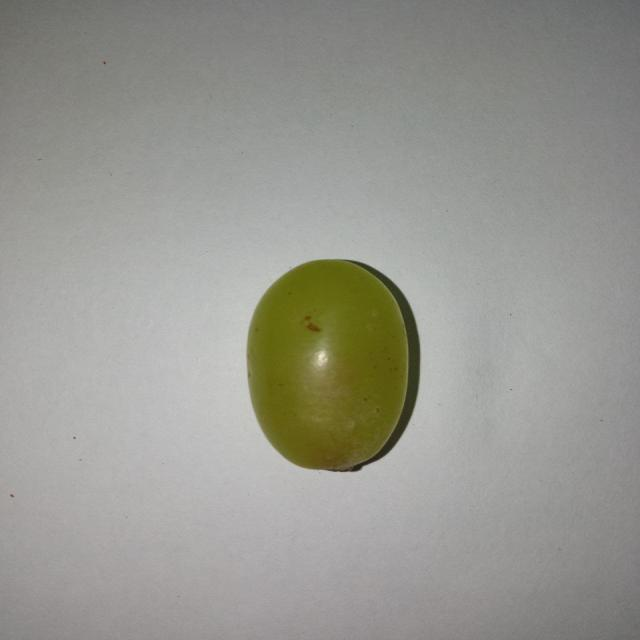fresh_grape: (247, 259, 413, 472)
